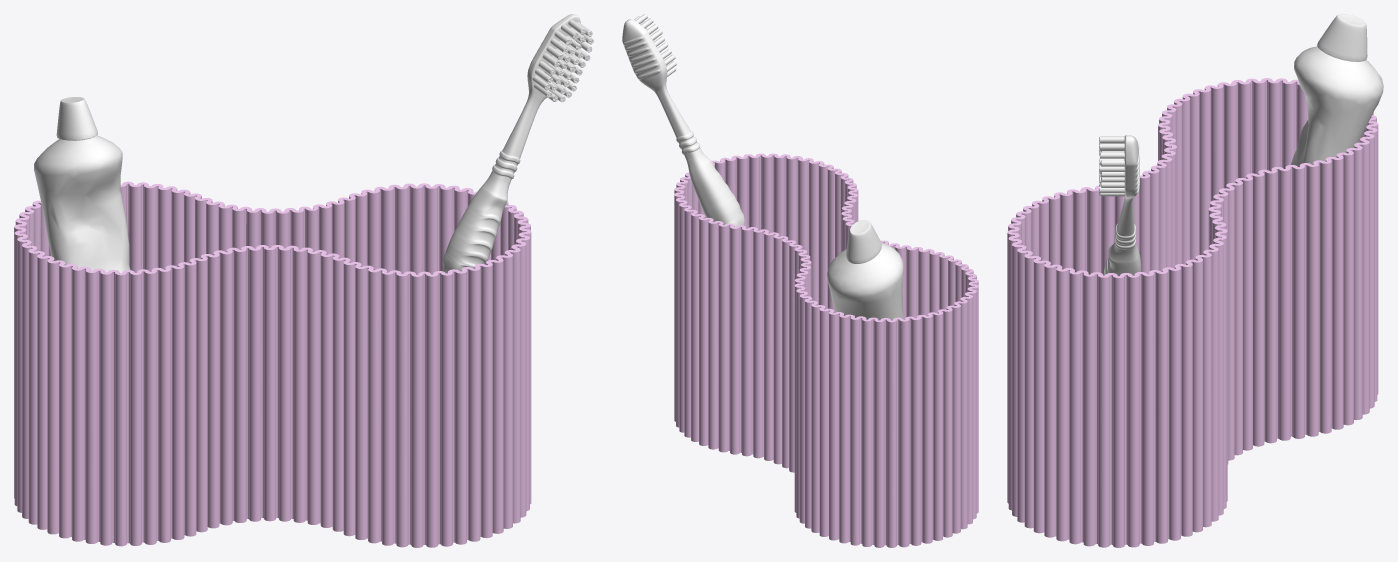
Rendered from portebrosse.glb.
The picture shows the model from 3 angles, left to right: view 1: azimuth 30°, elevation 25°; view 2: azimuth 150°, elevation 25°; view 3: azimuth 270°, elevation 25°; orthographic projection. The views are drawn at different scales.
Visible parts, largest first — view 1: Layer 02(9CE8F198-1226-40B6-9536-F76AF0E9D722), model_1, Box001 (×2), Cylinder001 (×3); view 2: Layer 02(9CE8F198-1226-40B6-9536-F76AF0E9D722), model_1, Box001 (×2); view 3: Layer 02(9CE8F198-1226-40B6-9536-F76AF0E9D722), model_1, Box001 (×2), Cylinder001 (×2).
Boxes of the visible parts, x1,y1,x2,y2 form: Layer 02(9CE8F198-1226-40B6-9536-F76AF0E9D722): (14, 181, 531, 547); model_1: (34, 97, 130, 272); Box001 (×2): (443, 14, 580, 273); Cylinder001 (×3): (532, 19, 593, 102); Layer 02(9CE8F198-1226-40B6-9536-F76AF0E9D722): (674, 153, 978, 547); model_1: (827, 220, 903, 320); Box001 (×2): (622, 19, 744, 226); Layer 02(9CE8F198-1226-40B6-9536-F76AF0E9D722): (1007, 78, 1378, 547); model_1: (1291, 14, 1383, 166); Box001 (×2): (1103, 135, 1140, 275); Cylinder001 (×2): (1099, 136, 1124, 196).
Size of the model in its own units: 0.1858 by 0.1637 by 0.1265.
